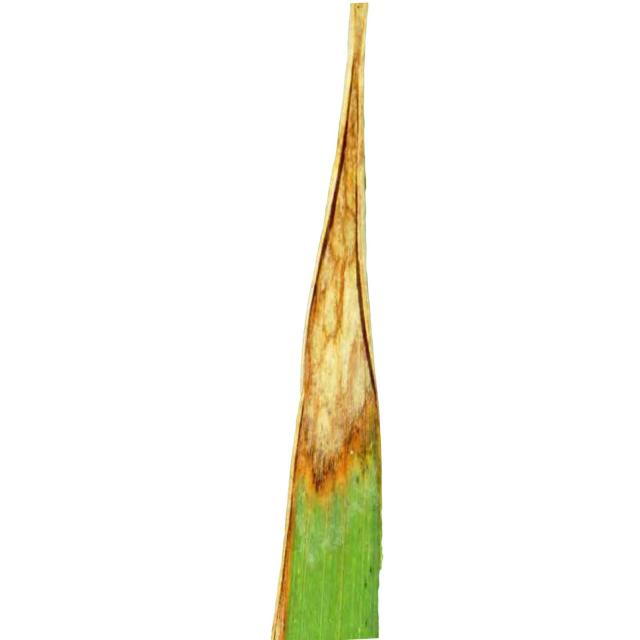Leaf scald: (160, 0, 476, 638)
